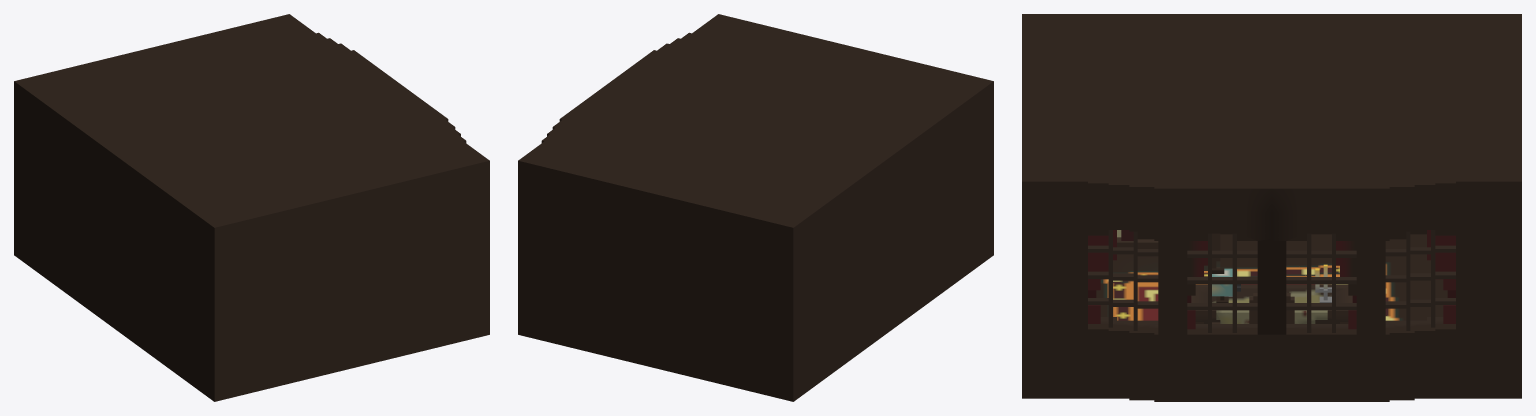
Rendered from Full_room.fbx.
3 renders of one model, left to right at view 1: azimuth 30°, elevation 25°; view 2: azimuth 150°, elevation 25°; view 3: azimuth 270°, elevation 25°, orthographic. The views are drawn at different scales.
Visible parts, largest first — view 1: Full_room.Merged; view 2: Full_room.Merged; view 3: Full_room.Merged.
Part boxes in pixels (x1,y1,x2,y2): Full_room.Merged: (14, 14, 489, 401); Full_room.Merged: (518, 14, 993, 401); Full_room.Merged: (1022, 14, 1521, 401).
Size of the model in its own units: 6.7 by 3.89 by 8.11.
